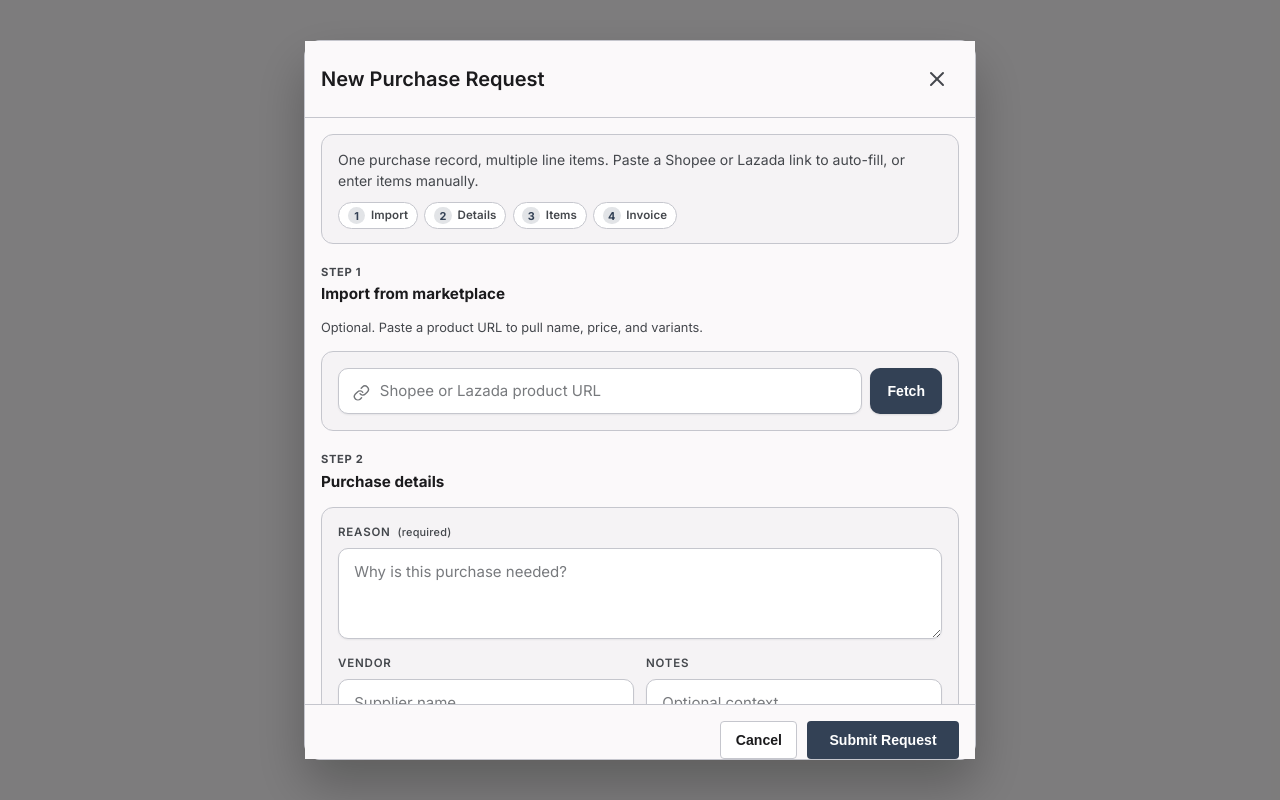
Test: SubmitRequestModal › shows validation errors when footer submit button is clicked
The image size is (1280, 800).
Click the button "Submit Request".
click(883, 740)  # box [807,721,959,759]
(page scrolled)
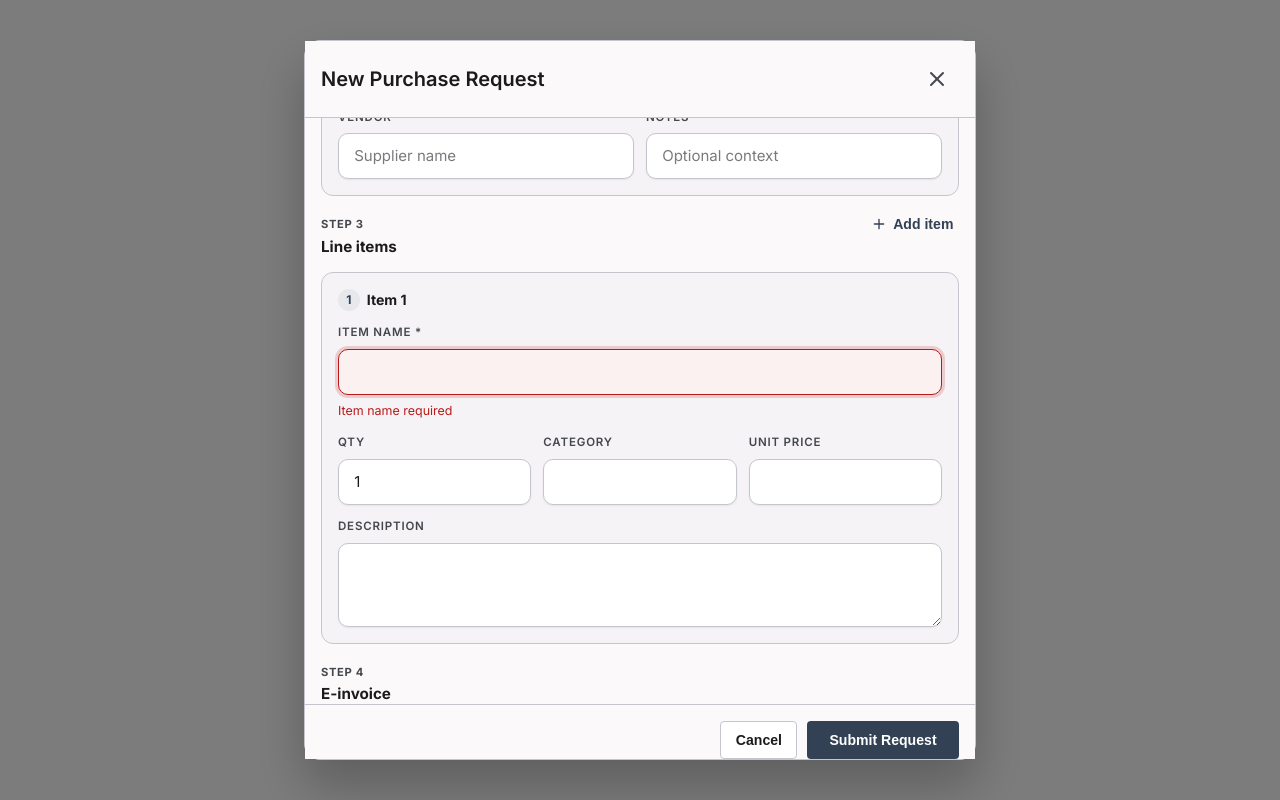
Check: the text "Item name required" is shown, box [338,403,452,418]
